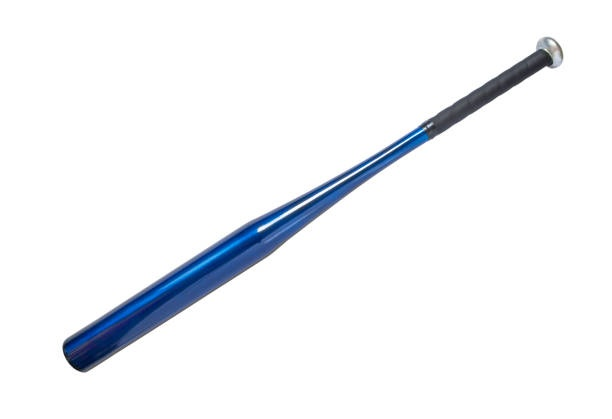bita: (42, 36, 556, 381)
